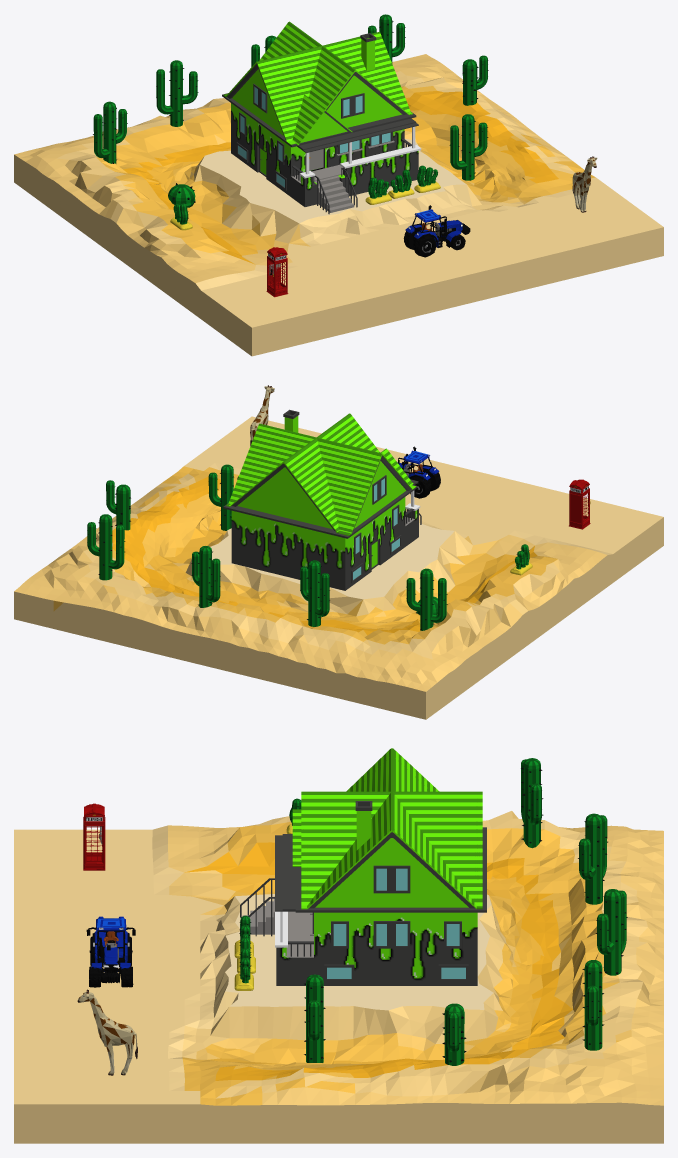
The picture shows the model from 3 angles, top to bottom: view 1: azimuth 30°, elevation 25°; view 2: azimuth 150°, elevation 25°; view 3: azimuth 270°, elevation 25°; orthographic projection. The views are drawn at different scales.
Visible parts, largest first — view 1: Cube.001, Cube.754, VEHICLES_TRACTOR, Cylinder.044, Cylinder.037, Cylinder.045, Cylinder.038, OBJRANDOM_PHONEBOOTH, Cylinder.042, ANIMAL_JIRAFA, Cylinder.039, Cylinder.041 (+1 smaller); view 2: Cube.001, Cube.754, Cylinder.042, Cylinder.045, Cylinder.044, Cylinder.043, VEHICLES_TRACTOR, Cylinder.037, OBJRANDOM_PHONEBOOTH, Cylinder.038; view 3: Cube.001, Cube.754, VEHICLES_TRACTOR, Cylinder.044, Cylinder.043, Cylinder.045, Cylinder.042, ANIMAL_JIRAFA, Cylinder.037, OBJRANDOM_PHONEBOOTH, Cylinder.038, Cylinder.041.
Boxes of the visible parts, x1,y1,x2,y2 form: Cube.001: (14, 54, 663, 356); Cube.754: (222, 21, 421, 214); VEHICLES_TRACTOR: (403, 205, 470, 257); Cylinder.044: (156, 60, 198, 126); Cylinder.037: (449, 114, 488, 180); Cylinder.045: (93, 101, 127, 163); Cylinder.038: (462, 55, 488, 105); OBJRANDOM_PHONEBOOTH: (266, 247, 288, 297); Cylinder.042: (368, 14, 405, 63); ANIMAL_JIRAFA: (572, 156, 597, 212); Cylinder.039: (365, 177, 391, 204); Cylinder.041: (414, 165, 440, 192); Cube.001: (14, 416, 663, 719); Cube.754: (223, 409, 421, 590); Cylinder.042: (87, 514, 125, 580); Cylinder.045: (406, 568, 447, 630); Cylinder.044: (300, 560, 329, 626); Cylinder.043: (191, 546, 220, 607); VEHICLES_TRACTOR: (397, 446, 440, 498); Cylinder.037: (208, 464, 238, 530); OBJRANDOM_PHONEBOOTH: (569, 479, 590, 529); Cylinder.038: (106, 480, 130, 530); Cube.001: (14, 811, 663, 1143); Cube.754: (240, 748, 486, 985); VEHICLES_TRACTOR: (86, 916, 135, 987); Cylinder.044: (578, 813, 607, 904); Cylinder.043: (595, 889, 627, 975); Cylinder.045: (521, 758, 543, 848); Cylinder.042: (582, 960, 604, 1050); ANIMAL_JIRAFA: (77, 989, 137, 1075); Cylinder.037: (304, 974, 325, 1062); OBJRANDOM_PHONEBOOTH: (83, 803, 105, 870); Cylinder.038: (442, 1003, 466, 1065); Cylinder.041: (234, 948, 253, 990).
Bounding box in the file's own units: 4002 × 1727 × 4001.
Materials: 38 (3 with a texture image).
